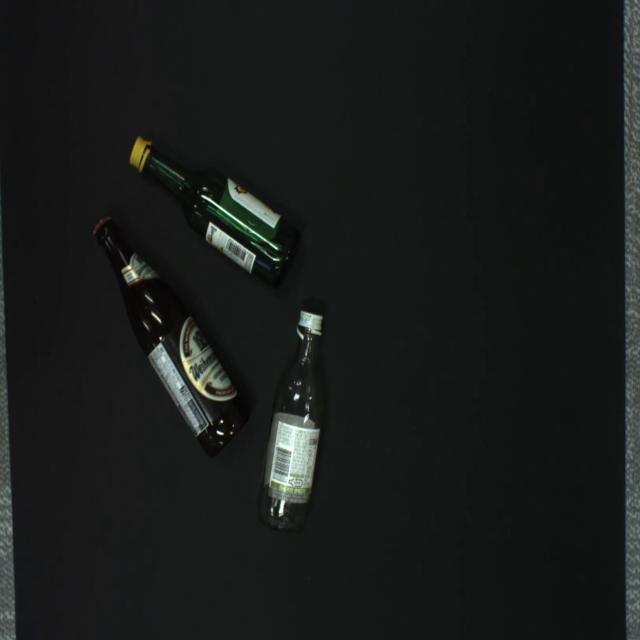beer-bottle: (94, 216, 250, 457)
soju-bottle: (130, 136, 299, 287), (257, 310, 324, 532)
